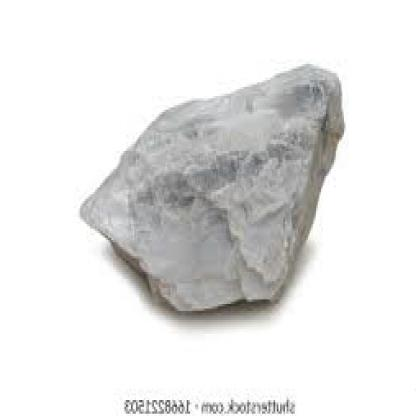Metamorphic_Marble: (70, 34, 366, 322)
